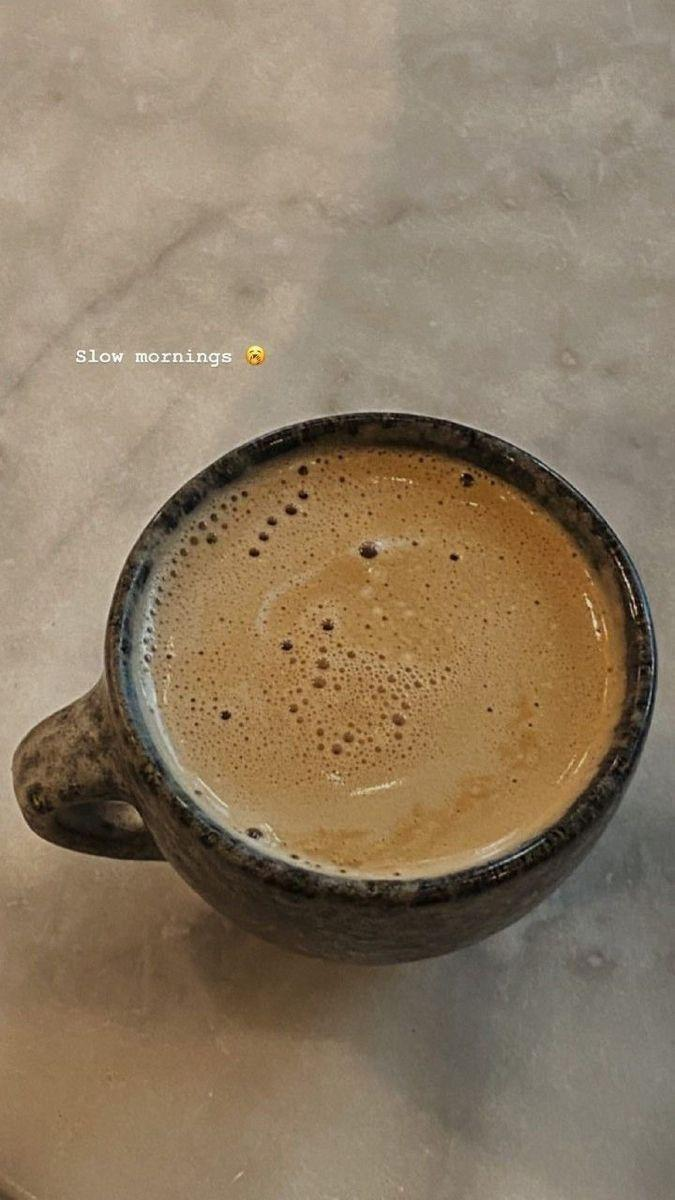cup-handle: (12, 404, 663, 964)
